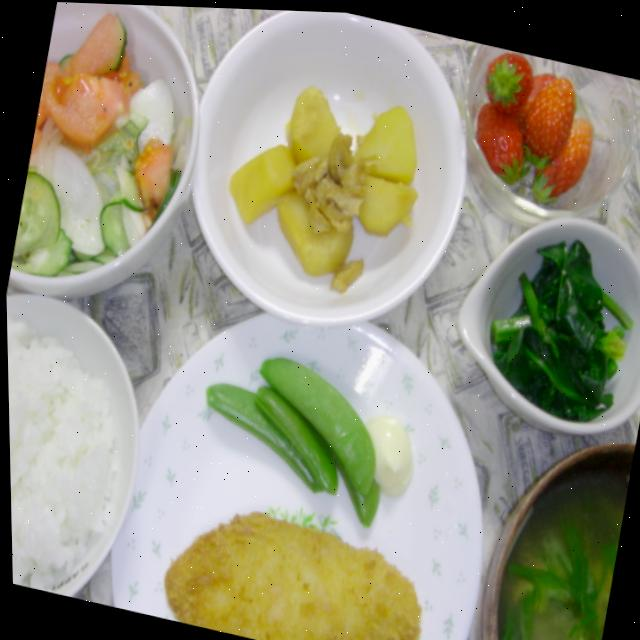汤锅炖物: (454, 425, 634, 640)
炸货点心: (103, 486, 467, 640)
熟制海鲜: (103, 486, 467, 640)
